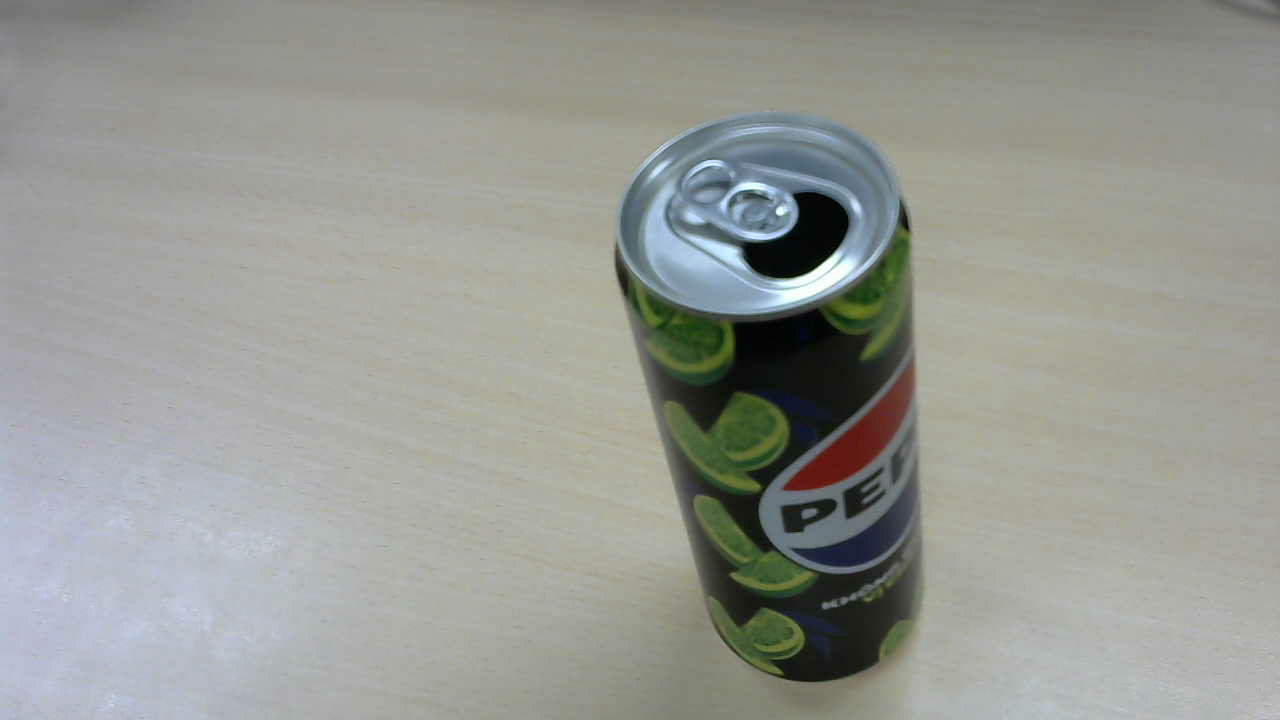Pepsi: (618, 117, 933, 685)
